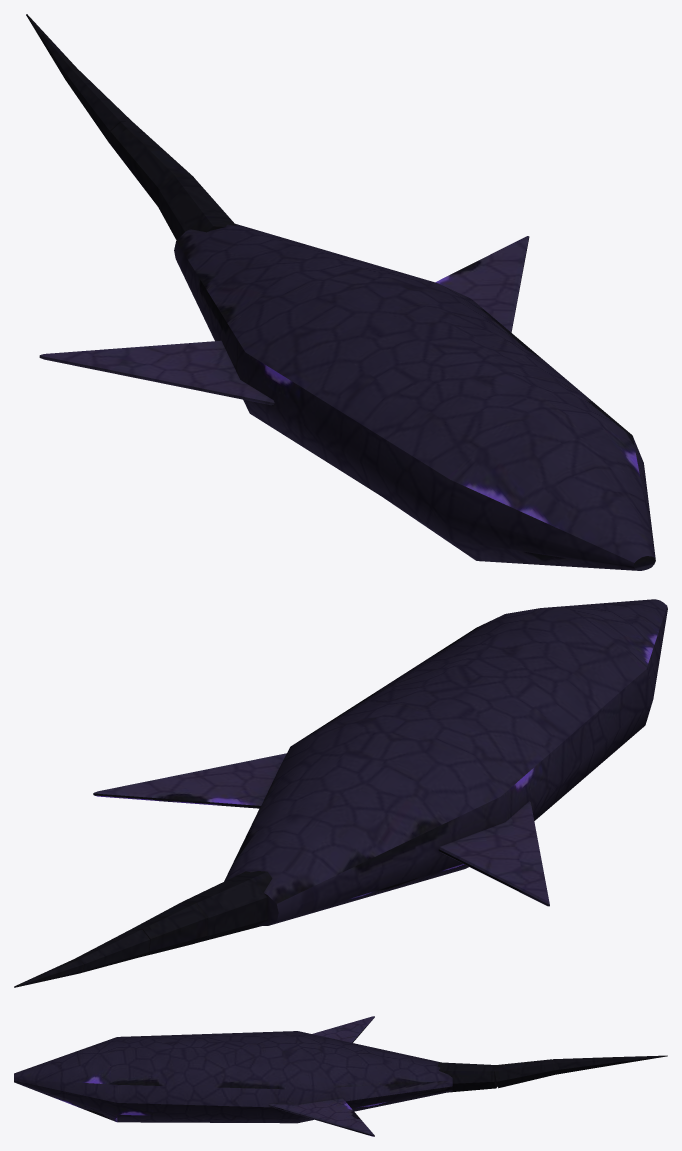
The model's file is void_craft.glb.
3 renders of one model, top to bottom at view 1: azimuth 30°, elevation 25°; view 2: azimuth 150°, elevation 25°; view 3: azimuth 270°, elevation 25°, orthographic. The views are drawn at different scales.
Parts seen in each view (by area): view 1: HULL, SYS_DRIVE; view 2: HULL, SYS_DRIVE; view 3: HULL, SYS_DRIVE.
Boxes of the visible parts, x1,y1,x2,y2 form: HULL: (39, 223, 655, 570); SYS_DRIVE: (26, 14, 236, 240); HULL: (93, 599, 667, 926); SYS_DRIVE: (14, 871, 272, 987); HULL: (14, 1016, 452, 1136); SYS_DRIVE: (438, 1055, 667, 1092).
Size of the model in its own units: 2.89 by 0.7992 by 6.69.
Materials: 1 (1 with a texture image).
